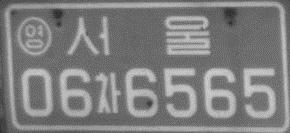0: (20, 67, 53, 118)
5: (242, 66, 277, 119), (163, 67, 198, 119)
6: (124, 67, 159, 118), (202, 67, 236, 118), (59, 68, 93, 117)
서울_D: (63, 16, 212, 56)
영: (15, 16, 53, 56)
차: (95, 71, 120, 114)
